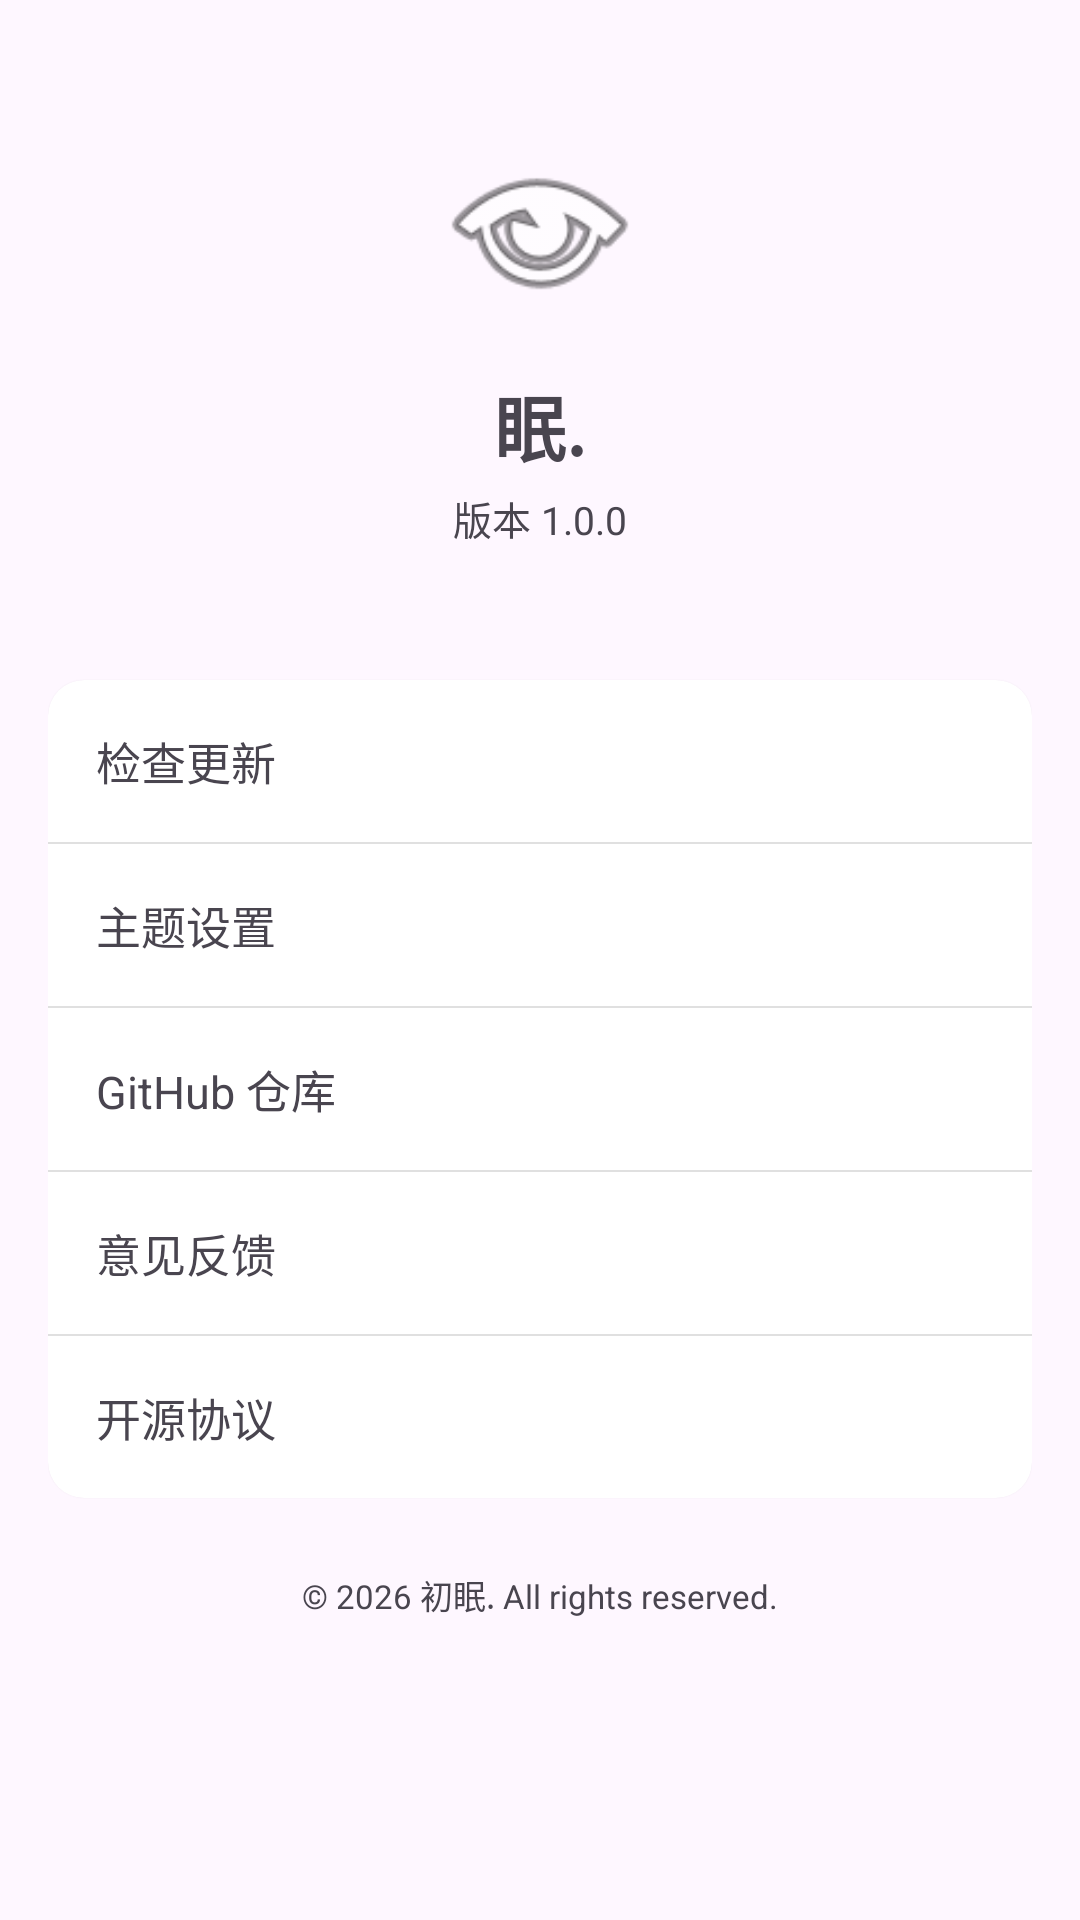

Screen size 1080px x 1920px. Icon name, then its center in pixels as (x,y):
view: (540,233)
